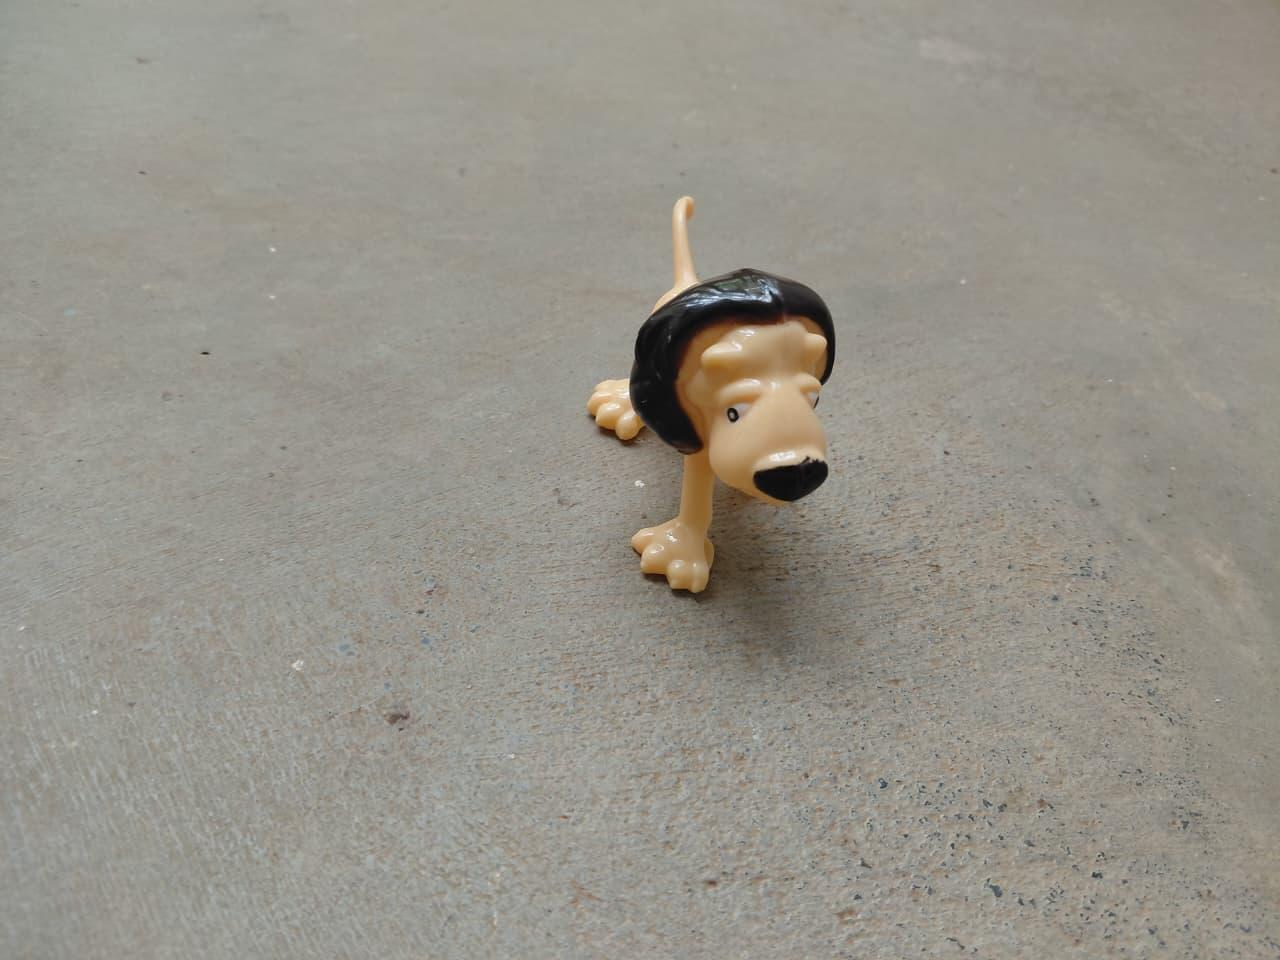lion: (577, 185, 844, 607)
